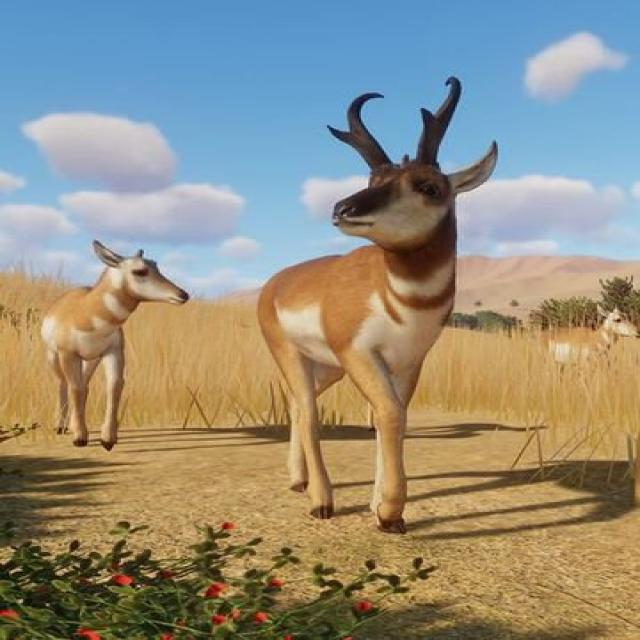Antelope: (249, 68, 502, 538), (34, 226, 200, 452)
